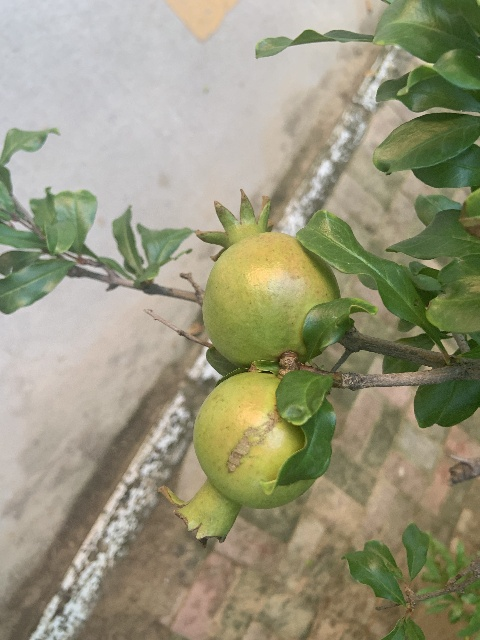mid-growth: (156, 372, 317, 548), (193, 188, 340, 366)
